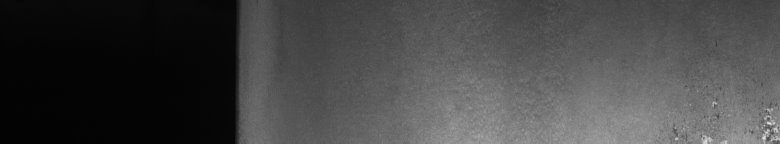hc: (668, 41, 776, 136)
